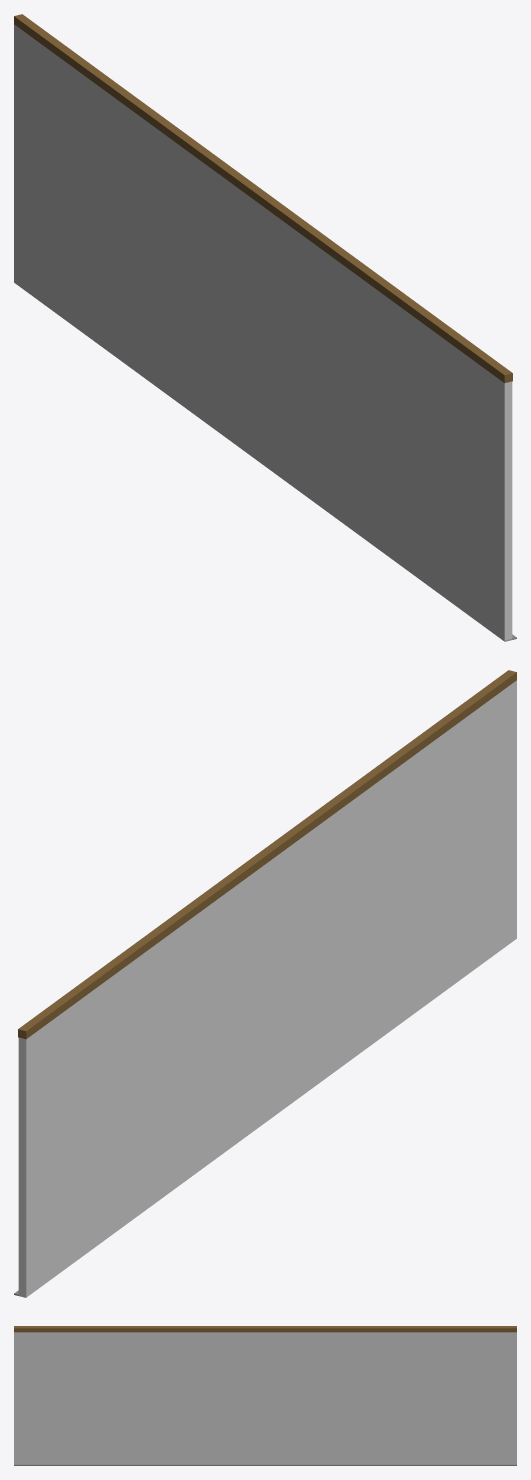
The model's file is WhiteBoard.fbx.
3 renders of one model, top to bottom at view 1: azimuth 30°, elevation 25°; view 2: azimuth 150°, elevation 25°; view 3: azimuth 270°, elevation 25°, orthographic. The views are drawn at different scales.
Visible parts, largest first — view 1: Cube, Cube.002; view 2: Cube, Cube.002; view 3: Cube, Cube.002, Cube.001.
Part boxes in pixels (left/top/right/bottom): Cube: left=14, top=24, right=512, bottom=641; Cube.002: left=14, top=14, right=512, bottom=383; Cube: left=18, top=680, right=516, bottom=1297; Cube.002: left=18, top=670, right=516, bottom=1039; Cube: left=14, top=1332, right=516, bottom=1463; Cube.002: left=14, top=1326, right=516, bottom=1332; Cube.001: left=14, top=1464, right=516, bottom=1465.
Size of the model in its own units: 12.62 by 262 by 876.
